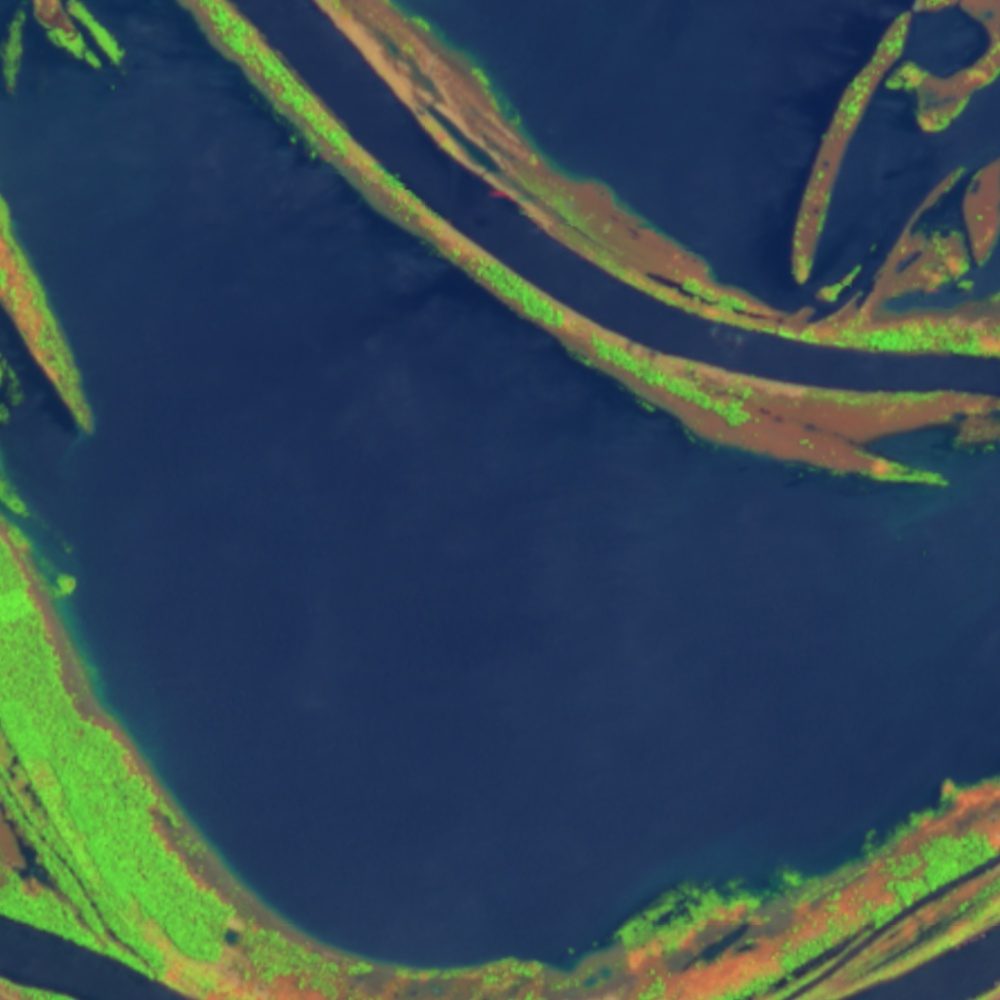legal: (575, 1, 1000, 486), (170, 1, 573, 351), (136, 804, 619, 1000), (606, 766, 1000, 1000), (1, 490, 143, 956), (1, 184, 102, 437), (1, 1, 134, 89)
